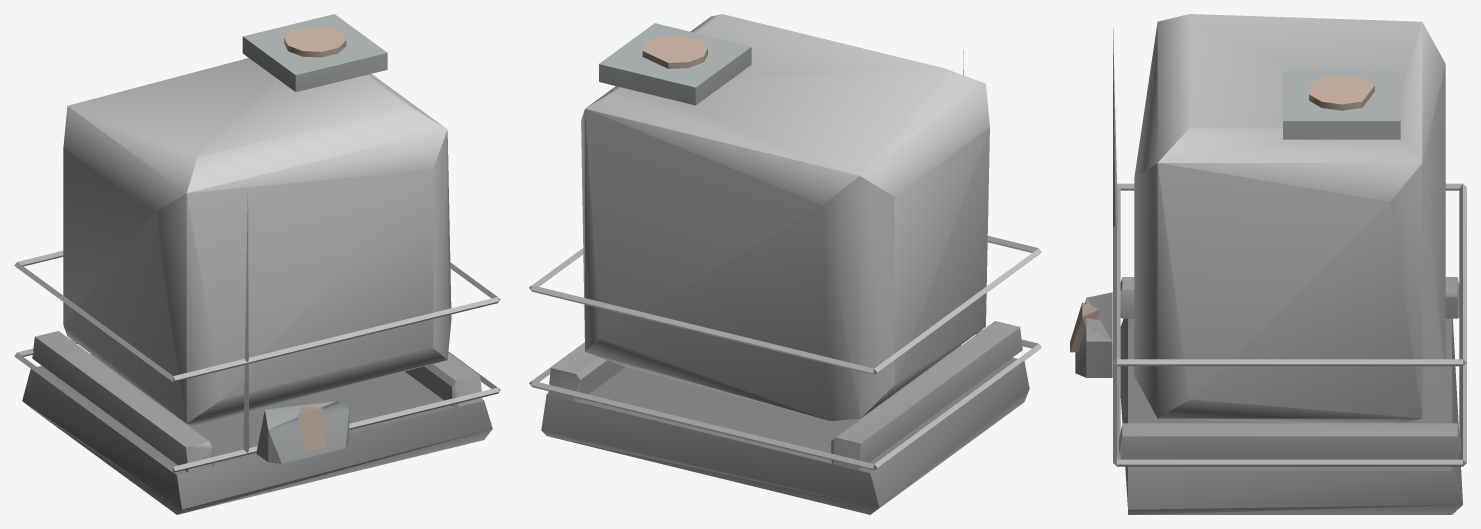
Rendered from ibc.lod2.glb.
The picture shows the model from 3 angles, left to right: view 1: azimuth 30°, elevation 25°; view 2: azimuth 150°, elevation 25°; view 3: azimuth 270°, elevation 25°; orthographic projection. The views are drawn at different scales.
Size of the model in its own units: 1.22 by 1.23 by 1.15.
